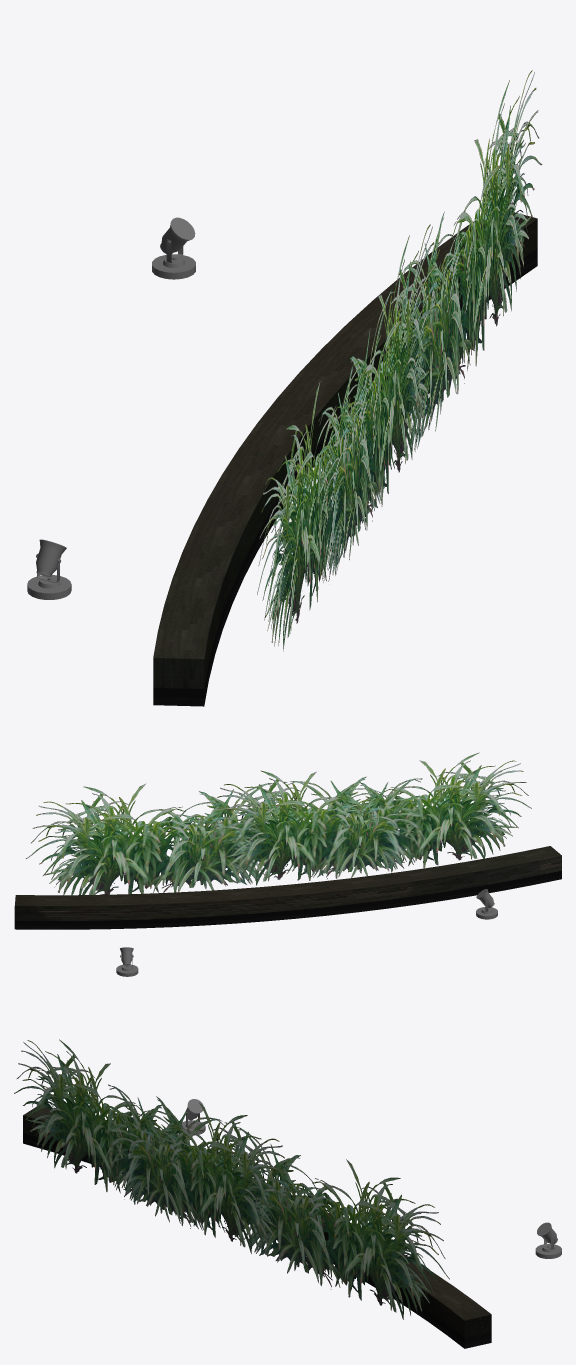
Rendered from Arena_Bush-R.glb.
3 views of the same model, one above another, from view 1: azimuth 30°, elevation 25°; view 2: azimuth 150°, elevation 25°; view 3: azimuth 270°, elevation 25° (orthographic). The views are drawn at different scales.
Parts seen in each view (by area): view 1: 15--Bushes-R, 8--Bush_Base-R, 8--SpotLight11, 8--SpotLight12; view 2: 15--Bushes-R, 8--Bush_Base-R, 8--SpotLight11, 8--SpotLight12; view 3: 15--Bushes-R, 8--Bush_Base-R, 8--SpotLight11, 8--SpotLight12.
Part boxes in pixels (box(x1,y1,x2,y2)): 15--Bushes-R: box(257, 70, 542, 651); 8--Bush_Base-R: box(153, 212, 537, 706); 8--SpotLight11: box(152, 217, 195, 279); 8--SpotLight12: box(27, 539, 71, 599); 15--Bushes-R: box(26, 752, 531, 895); 8--Bush_Base-R: box(14, 846, 561, 929); 8--SpotLight11: box(116, 947, 138, 976); 8--SpotLight12: box(476, 889, 497, 919); 15--Bushes-R: box(14, 1039, 449, 1319); 8--Bush_Base-R: box(23, 1107, 491, 1348); 8--SpotLight11: box(535, 1222, 561, 1258); 8--SpotLight12: box(181, 1099, 205, 1135).
Bounding box in the file's own units: 6.02 × 1.95 × 6.39.
3 materials, 2 textured.
